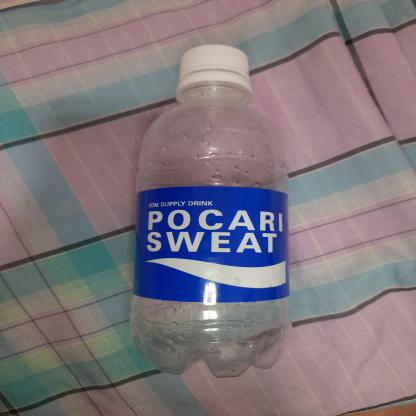bottle: (126, 41, 296, 382)
